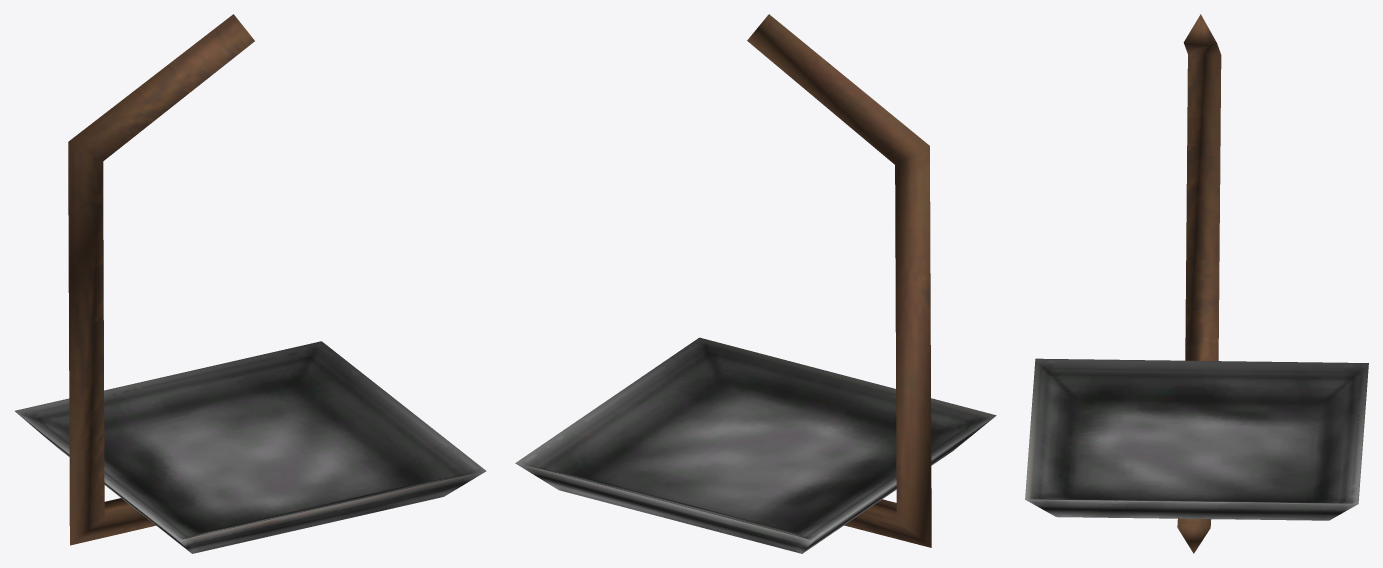
File: INST_SWORDLIGHT_CONV76-NEW.fbx
The picture shows the model from 3 angles, left to right: view 1: azimuth 30°, elevation 25°; view 2: azimuth 150°, elevation 25°; view 3: azimuth 270°, elevation 25°; orthographic projection. The views are drawn at different scales.
Visible parts, largest first — view 1: INST_SWORDLIGHT_CONV76-NEW; view 2: INST_SWORDLIGHT_CONV76-NEW; view 3: INST_SWORDLIGHT_CONV76-NEW.
Boxes of the visible parts, x1,y1,x2,y2 form: INST_SWORDLIGHT_CONV76-NEW: (15, 14, 486, 553); INST_SWORDLIGHT_CONV76-NEW: (515, 14, 996, 553); INST_SWORDLIGHT_CONV76-NEW: (1025, 14, 1368, 553).
Size of the model in its own units: 16559 by 23348 by 15459.
1 material, 1 textured.
